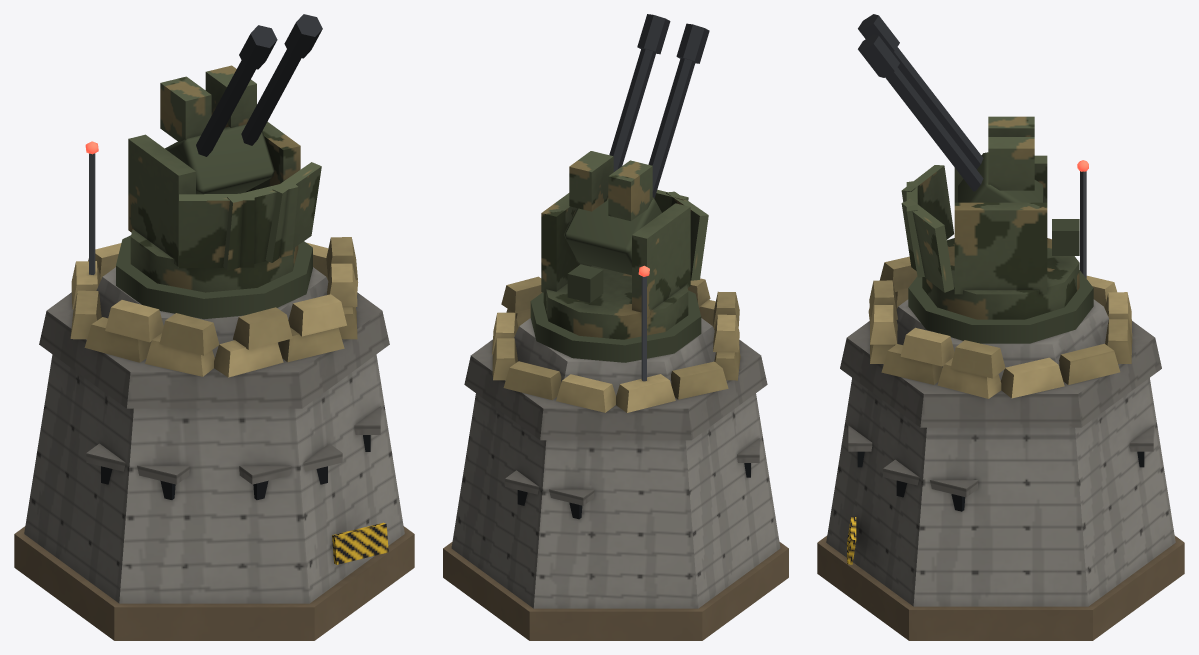
The model's file is tower_l6.glb.
The picture shows the model from 3 angles, left to right: view 1: azimuth 30°, elevation 25°; view 2: azimuth 150°, elevation 25°; view 3: azimuth 270°, elevation 25°; orthographic projection. The views are drawn at different scales.
Parts seen in each view (by area): view 1: tower_l6; view 2: tower_l6; view 3: tower_l6.
Part boxes in pixels (x1,y1,x2,y2): tower_l6: (14,14,414,640); tower_l6: (443,14,788,640); tower_l6: (817,14,1184,640).
Bounding box in the file's own units: 0.4642 × 0.8823 × 0.536.
2 materials, 1 textured.
